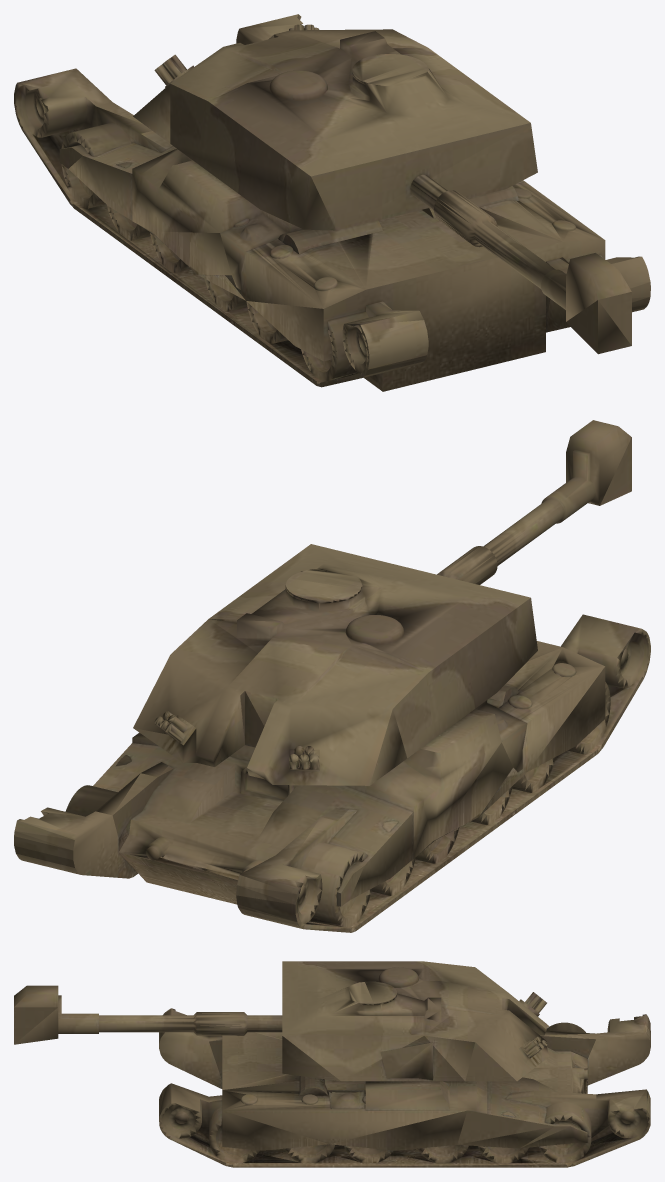
Rendered from mbt_challenger2.glb.
The picture shows the model from 3 angles, top to bottom: view 1: azimuth 30°, elevation 25°; view 2: azimuth 150°, elevation 25°; view 3: azimuth 270°, elevation 25°; orthographic projection. The views are drawn at different scales.
Parts seen in each view (by area): view 1: Challenger_2_Bottom1; view 2: Challenger_2_Bottom1; view 3: Challenger_2_Bottom1.
Boxes of the visible parts, bbox=[...] form: Challenger_2_Bottom1: bbox=[14, 14, 650, 391]; Challenger_2_Bottom1: bbox=[14, 420, 650, 932]; Challenger_2_Bottom1: bbox=[14, 961, 650, 1167].
Bounding box in the file's own units: 4.08 × 2.98 × 11.55.
Materials: 1 (1 with a texture image).
